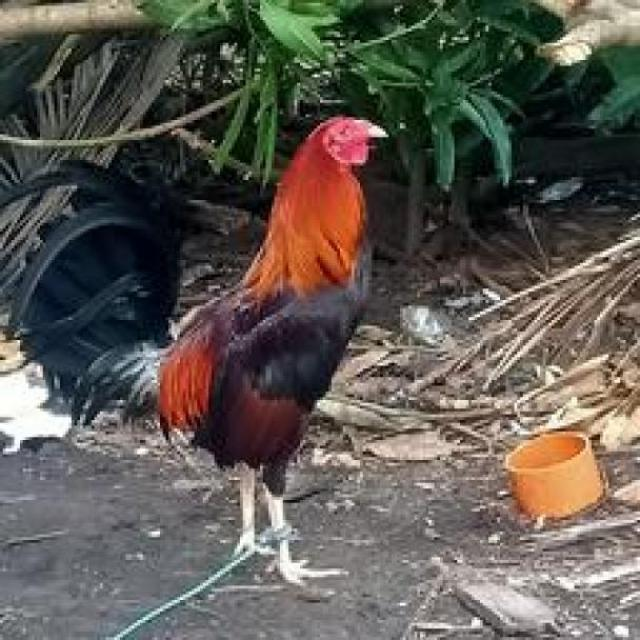Chicken: (4, 109, 386, 593)
